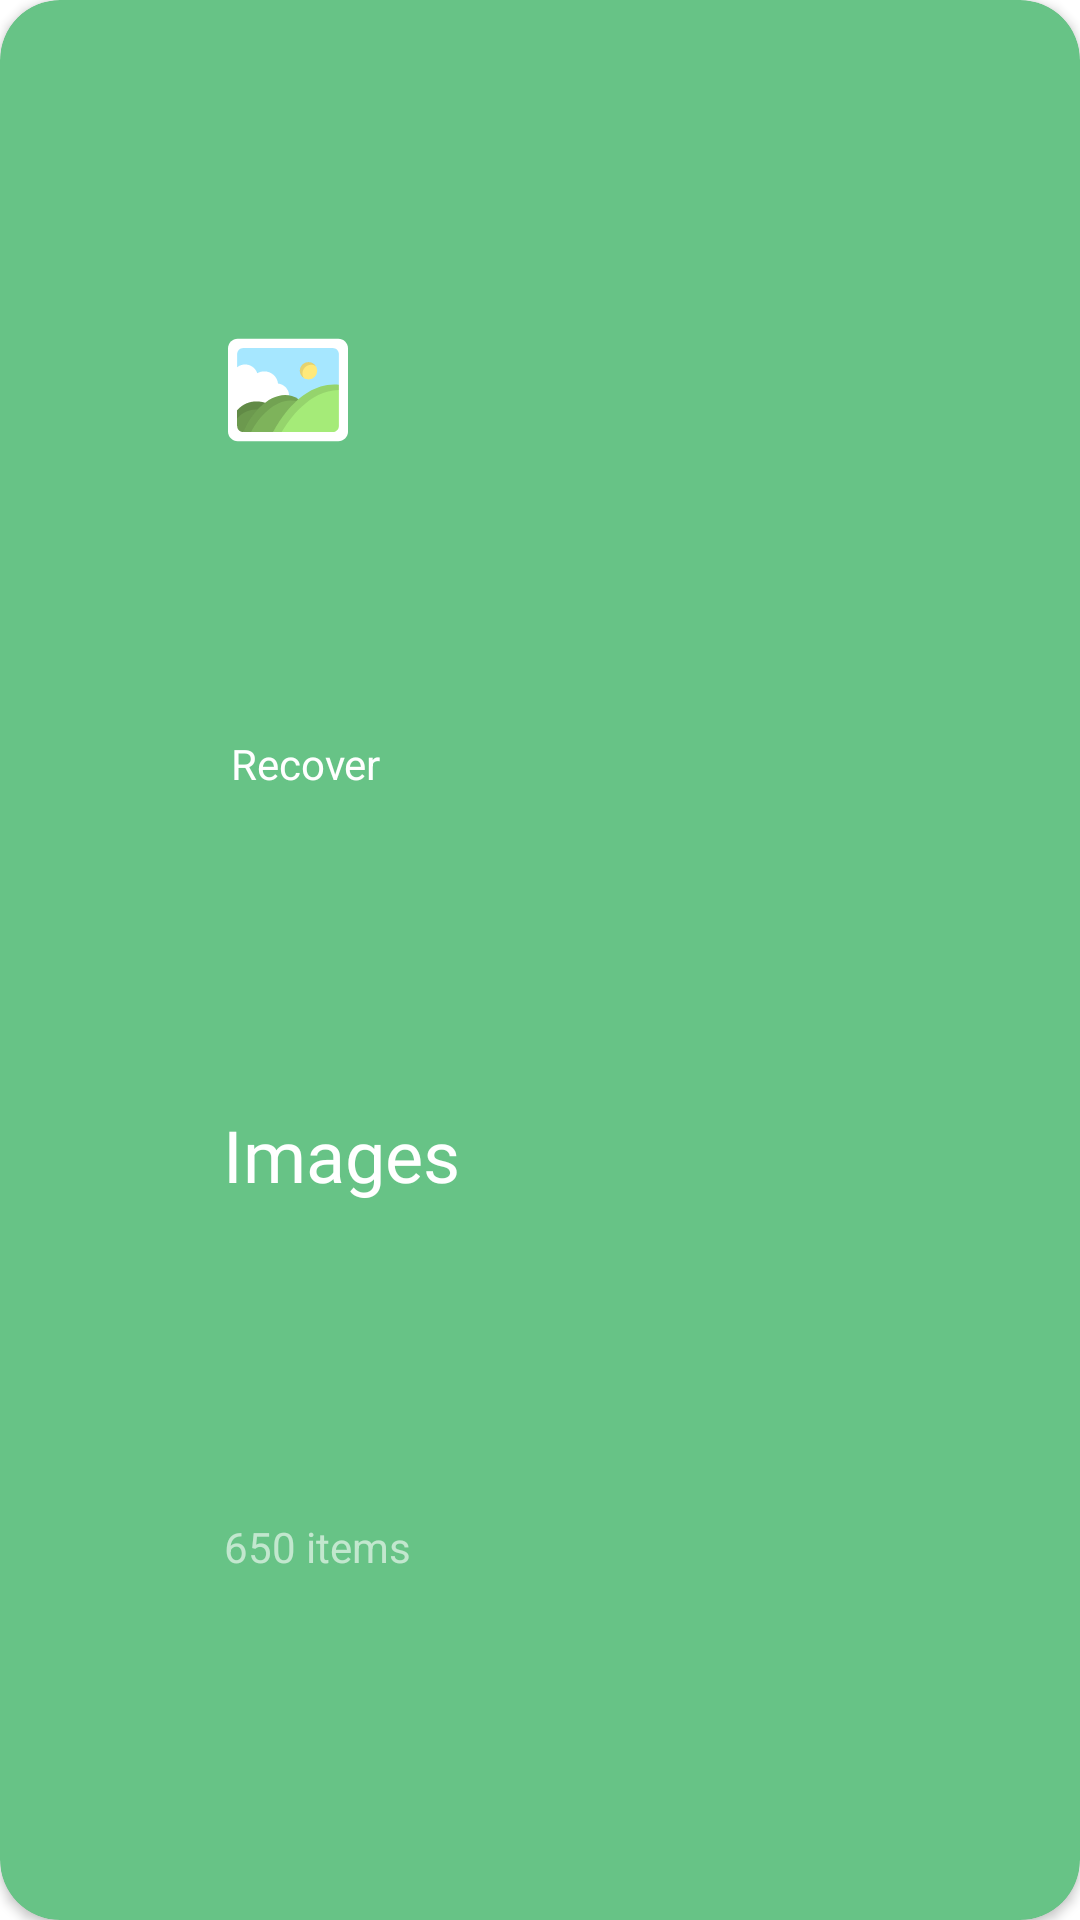

Where icons sit on this 1080px×1920px app screen, as (x1, y1, x2, y2):
gallery: (228, 338, 348, 442)
